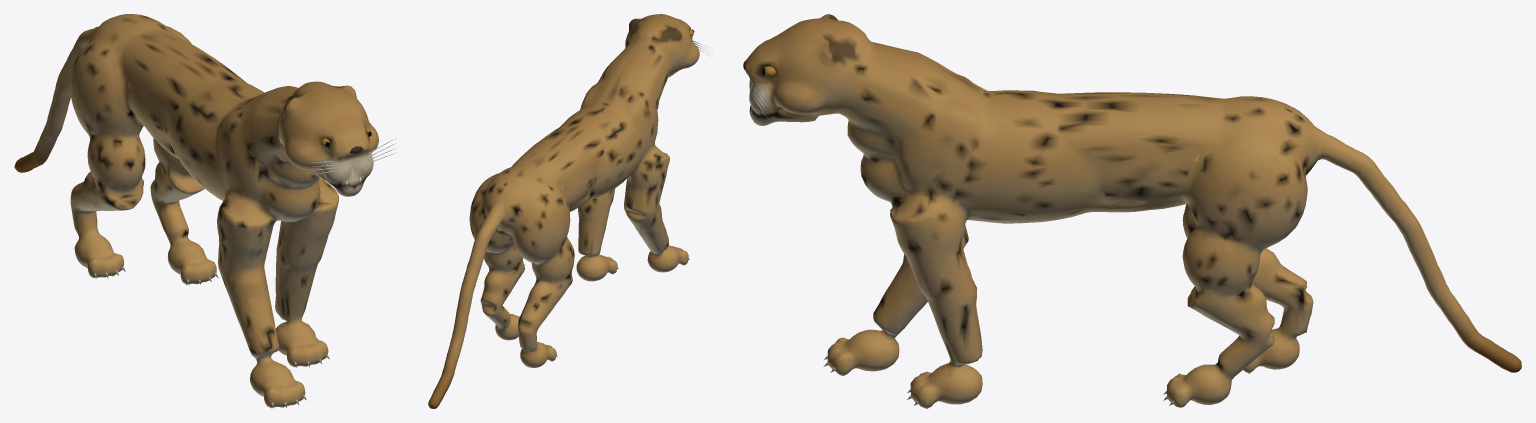
The model's file is AcinonyxPardinensis.fbx.
3 renders of one model, left to right at view 1: azimuth 30°, elevation 25°; view 2: azimuth 150°, elevation 25°; view 3: azimuth 270°, elevation 25°, orthographic. The views are drawn at different scales.
Parts seen in each view (by area): view 1: AcinonyxPardinensis; view 2: AcinonyxPardinensis; view 3: AcinonyxPardinensis.
Boxes of the visible parts, x1,y1,x2,y2 form: AcinonyxPardinensis: [14, 14, 395, 408]; AcinonyxPardinensis: [428, 14, 712, 408]; AcinonyxPardinensis: [743, 14, 1521, 408].
Bounding box in the file's own units: 0.4448 × 1.16 × 2.26.
